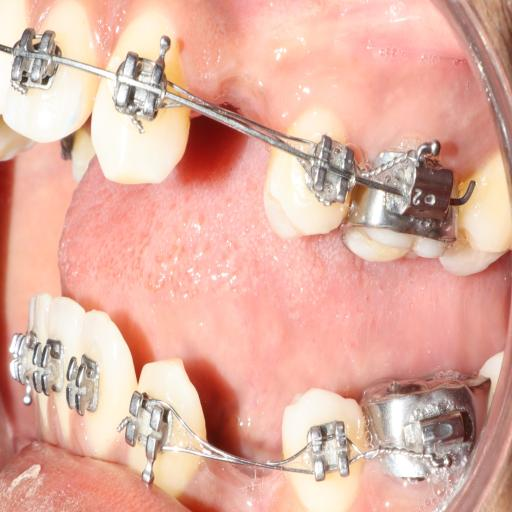correct_brace: (264, 107, 351, 234), (282, 389, 365, 501), (302, 417, 354, 483), (114, 54, 166, 119), (124, 388, 173, 453)
incorrect_brace: (304, 132, 356, 205)
